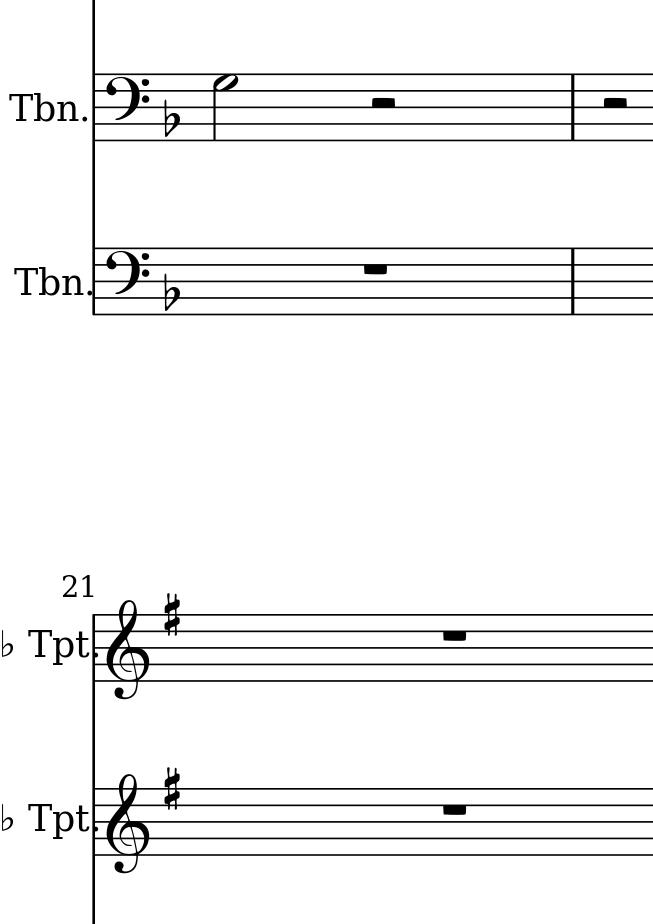1: (80, 571, 98, 600)
2: (60, 573, 80, 600)
2_7: (209, 72, 241, 143)
Fclef: (107, 74, 153, 144), (104, 246, 148, 317)
Flat: (161, 271, 181, 315), (161, 98, 180, 140)
Gclef: (106, 598, 147, 701), (107, 772, 148, 874)
Rests1: (438, 799, 476, 823), (358, 257, 394, 277), (441, 623, 473, 645)
Rests2: (366, 95, 400, 114), (599, 94, 631, 114)
Sharp: (160, 592, 184, 642), (164, 763, 181, 812)
Single_barline: (559, 248, 587, 315), (562, 74, 585, 141), (86, 73, 108, 143), (87, 788, 109, 856), (84, 248, 105, 315), (86, 614, 106, 681)
Tbn: (11, 258, 83, 304), (6, 88, 77, 130)
Tpt: (23, 796, 89, 841), (26, 625, 88, 665)
